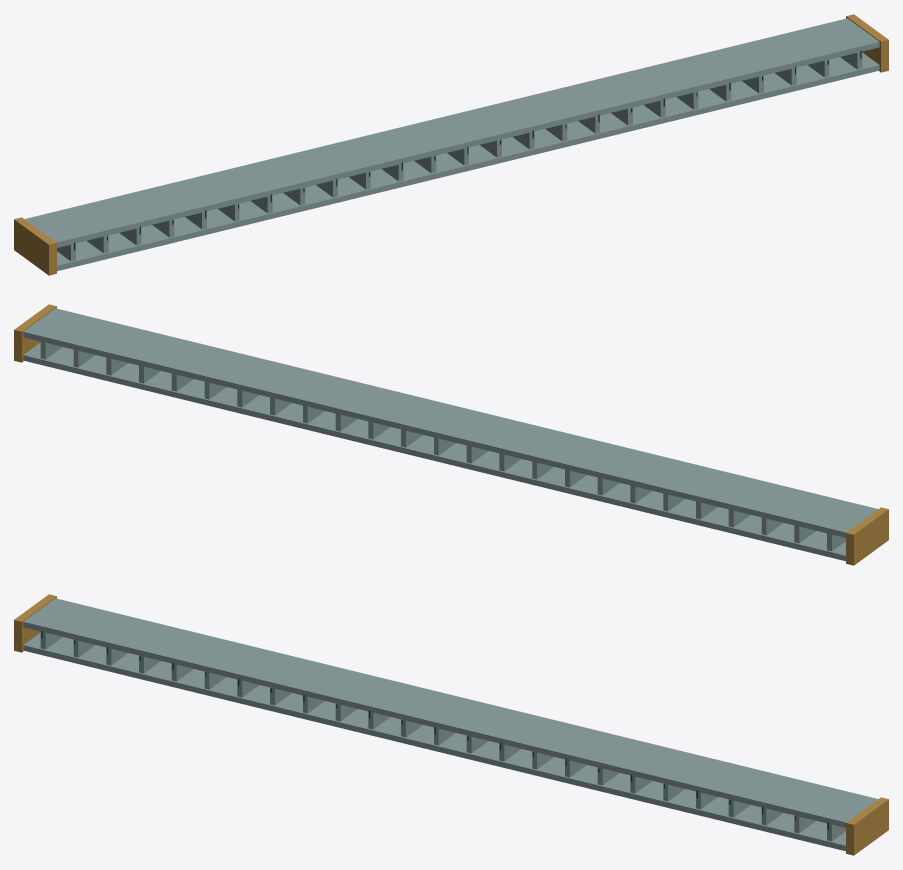
File: lever-beam.glb
3 renders of one model, top to bottom at view 1: azimuth 30°, elevation 25°; view 2: azimuth 150°, elevation 25°; view 3: azimuth 330°, elevation 25°, orthographic.
Visible parts, largest first — view 1: rail (×4); view 2: rail (×4); view 3: rail (×4).
Boxes of the visible parts, box(x1,y1,x2,y2) form: rail (×4): box(14, 14, 888, 275); rail (×4): box(14, 304, 888, 565); rail (×4): box(14, 594, 888, 855).
Size of the model in its own units: 25.64 by 0.9 by 1.85.
